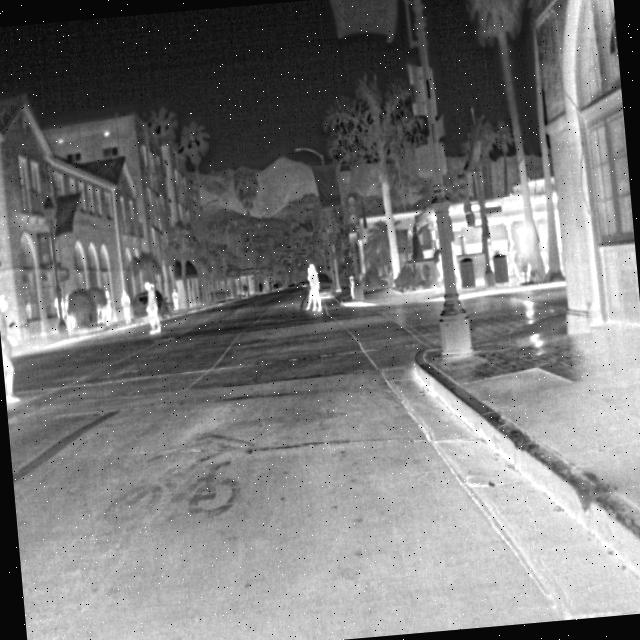Pedestrian: (0, 289, 21, 405), (299, 260, 322, 314), (142, 281, 164, 335), (118, 286, 132, 327)
